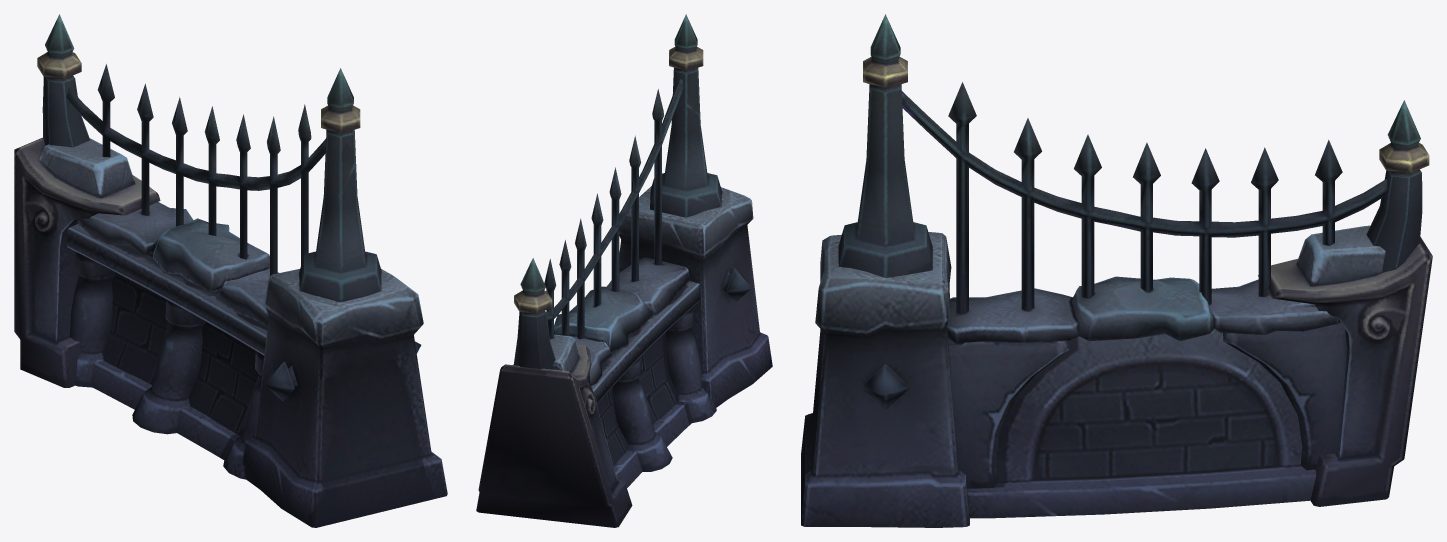
The model's file is Wall_05.obj.
3 renders of one model, left to right at view 1: azimuth 30°, elevation 25°; view 2: azimuth 150°, elevation 25°; view 3: azimuth 270°, elevation 25°, orthographic. The views are drawn at different scales.
Parts seen in each view (by area): view 1: Storm_Building_WinterCrest_Wall_0; view 2: Storm_Building_WinterCrest_Wall_0; view 3: Storm_Building_WinterCrest_Wall_0.
Part boxes in pixels (x1,y1,x2,y2): Storm_Building_WinterCrest_Wall_0: (14, 14, 447, 527); Storm_Building_WinterCrest_Wall_0: (476, 14, 772, 527); Storm_Building_WinterCrest_Wall_0: (801, 14, 1432, 527).
Bounding box in the file's own units: 348 × 688 × 833.
1 material, 1 textured.
